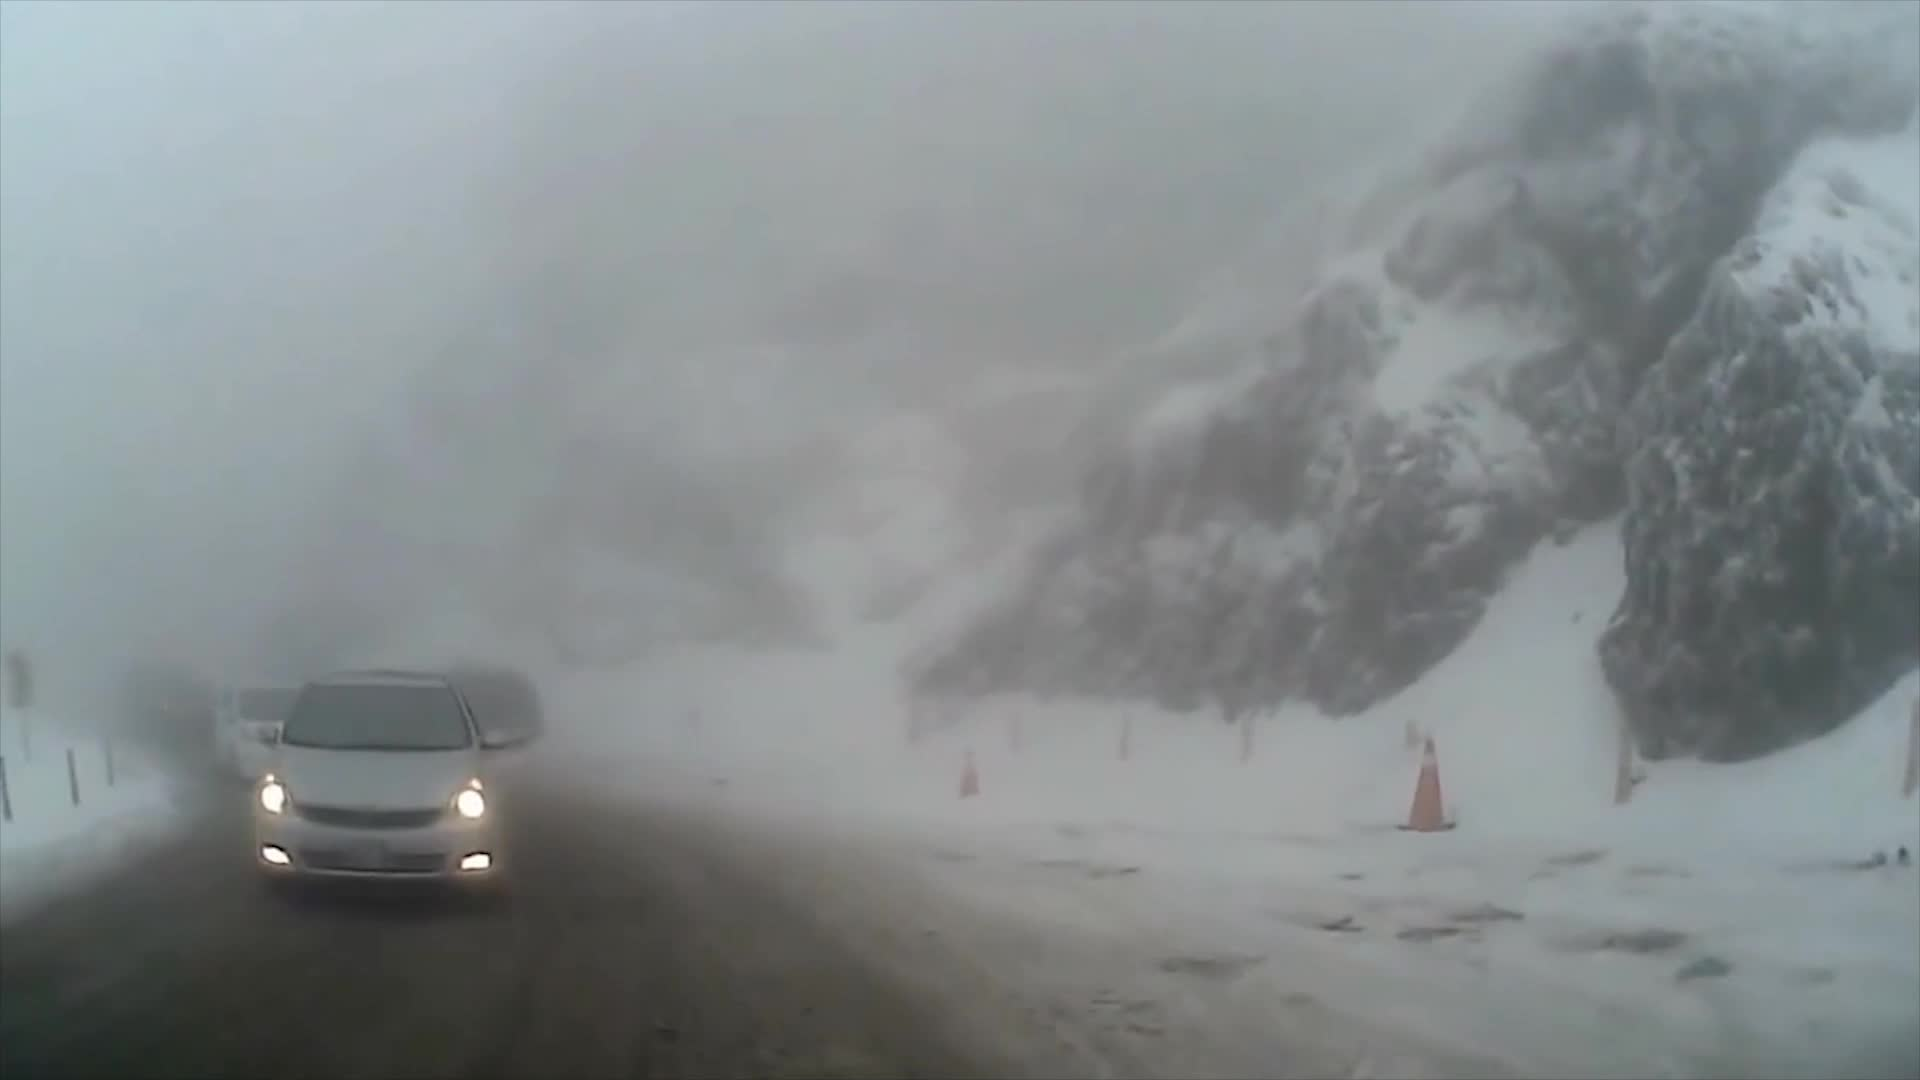vehicle: (244, 669, 512, 909), (202, 679, 344, 787)
